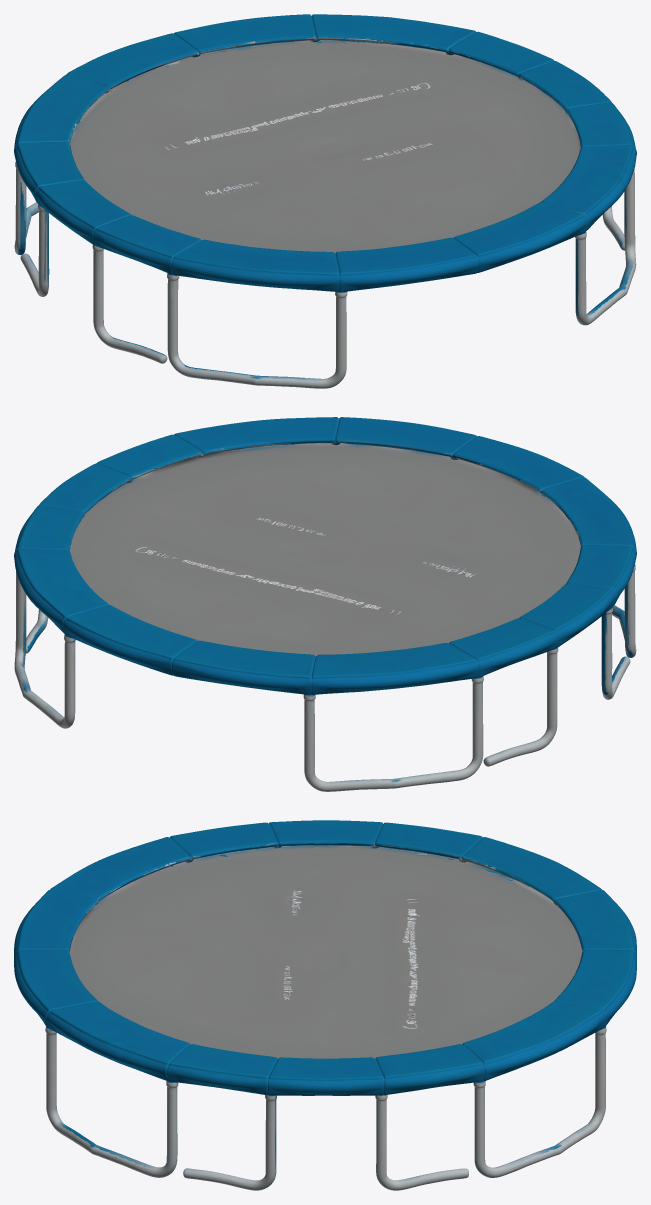
Rendered from tranpolin.glb.
3 views of the same model, one above another, from view 1: azimuth 30°, elevation 25°; view 2: azimuth 150°, elevation 25°; view 3: azimuth 270°, elevation 25° (orthographic).
Parts seen in each view (by area): view 1: texture_pbr_v128; view 2: texture_pbr_v128; view 3: texture_pbr_v128.
Boxes of the visible parts, box(x1,y1,x2,y2) form: texture_pbr_v128: box(14, 14, 636, 388); texture_pbr_v128: box(14, 417, 636, 791); texture_pbr_v128: box(14, 820, 636, 1190).
Bounding box in the file's own units: 1.15 × 0.2407 × 1.14.
Materials: 1 (1 with a texture image).
